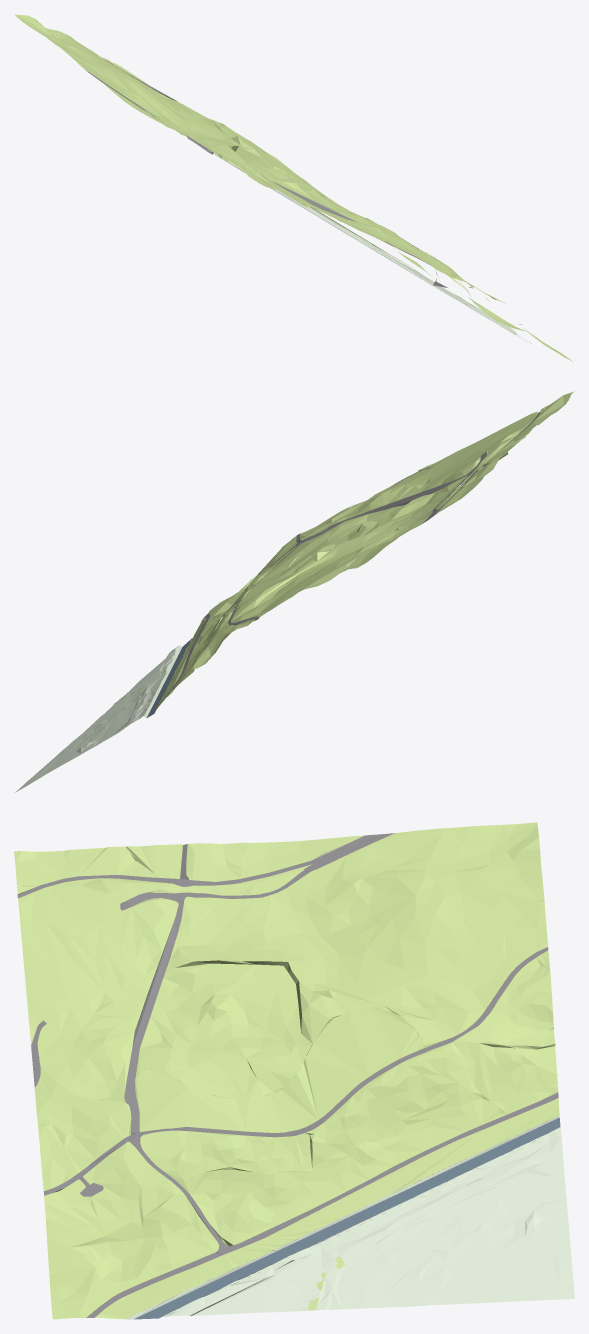
3 renders of one model, top to bottom at view 1: azimuth 30°, elevation 25°; view 2: azimuth 150°, elevation 25°; view 3: azimuth 270°, elevation 25°, orthographic. The views are drawn at different scales.
Size of the model in its own units: 213 by 165 by 267.
